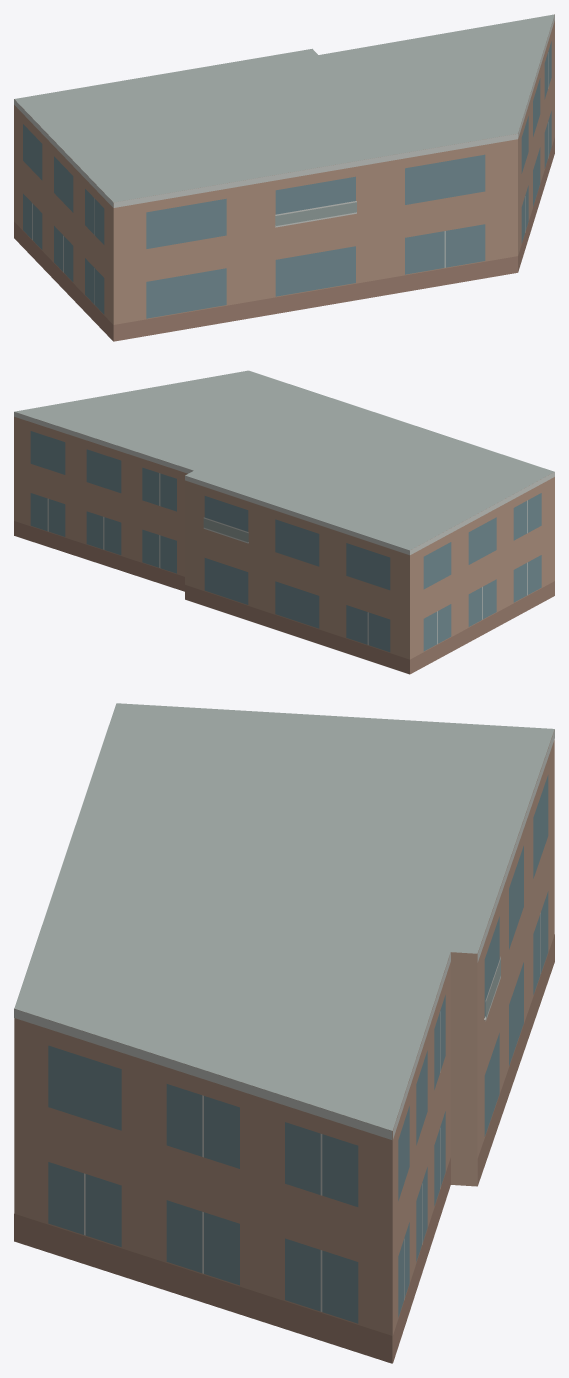
The model's file is survey-upis-32694729.glb.
The picture shows the model from 3 angles, top to bottom: view 1: azimuth 30°, elevation 25°; view 2: azimuth 150°, elevation 25°; view 3: azimuth 270°, elevation 25°; orthographic projection. The views are drawn at different scales.
Parts seen in each view (by area): view 1: survey-upis-32694729.tmp; view 2: survey-upis-32694729.tmp; view 3: survey-upis-32694729.tmp.
Boxes of the visible parts, <box> form: survey-upis-32694729.tmp: <box>14,14,554,341</box>; survey-upis-32694729.tmp: <box>14,370,554,674</box>; survey-upis-32694729.tmp: <box>14,703,554,1363</box>.
Bounding box in the file's own units: 24.06 × 6.1 × 12.85.
